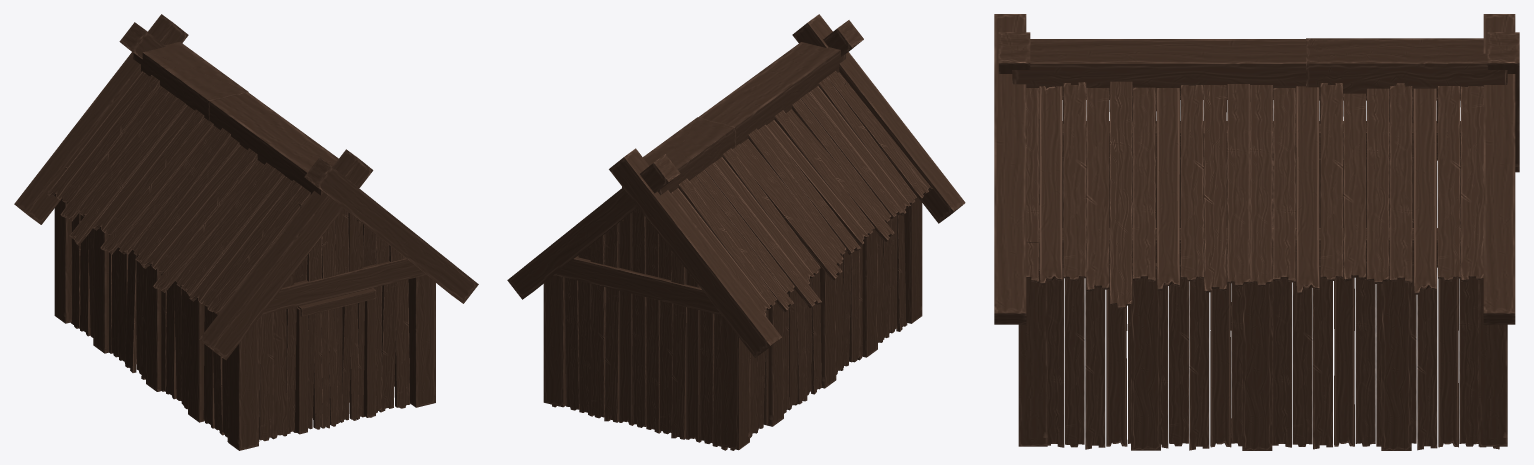
Rendered from blocking_village 1.fbx.
3 views of the same model, side by side, from view 1: azimuth 30°, elevation 25°; view 2: azimuth 150°, elevation 25°; view 3: azimuth 270°, elevation 25° (orthographic). The views are drawn at different scales.
Parts seen in each view (by area): view 1: Cube.126; view 2: Cube.126; view 3: Cube.126.
Boxes of the visible parts, x1,y1,x2,y2 form: Cube.126: (14, 14, 478, 450); Cube.126: (507, 14, 965, 450); Cube.126: (994, 14, 1519, 450).
Bounding box in the file's own units: 573 × 569 × 739.
